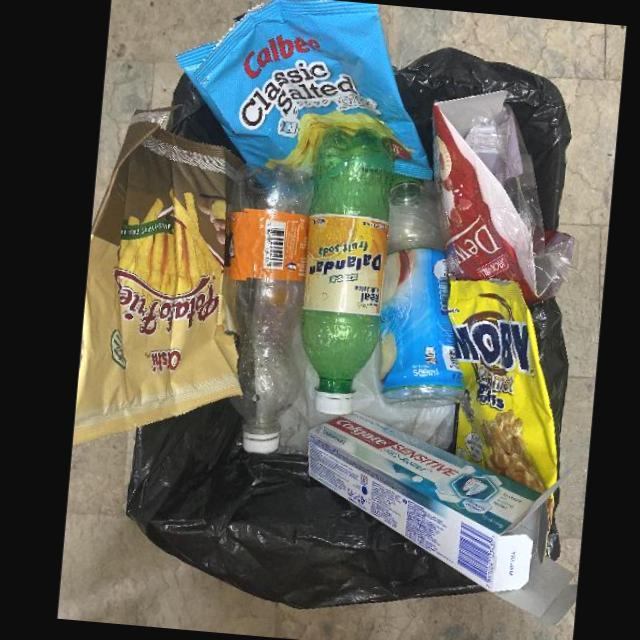bao_bi_thuc_pham: (72, 108, 243, 448), (174, 0, 434, 180), (432, 90, 575, 307), (447, 279, 558, 495)
carton: (307, 411, 577, 626)
chai_nhua: (300, 126, 392, 417)
chai_nhua_pet: (224, 164, 313, 455), (379, 174, 464, 410)
